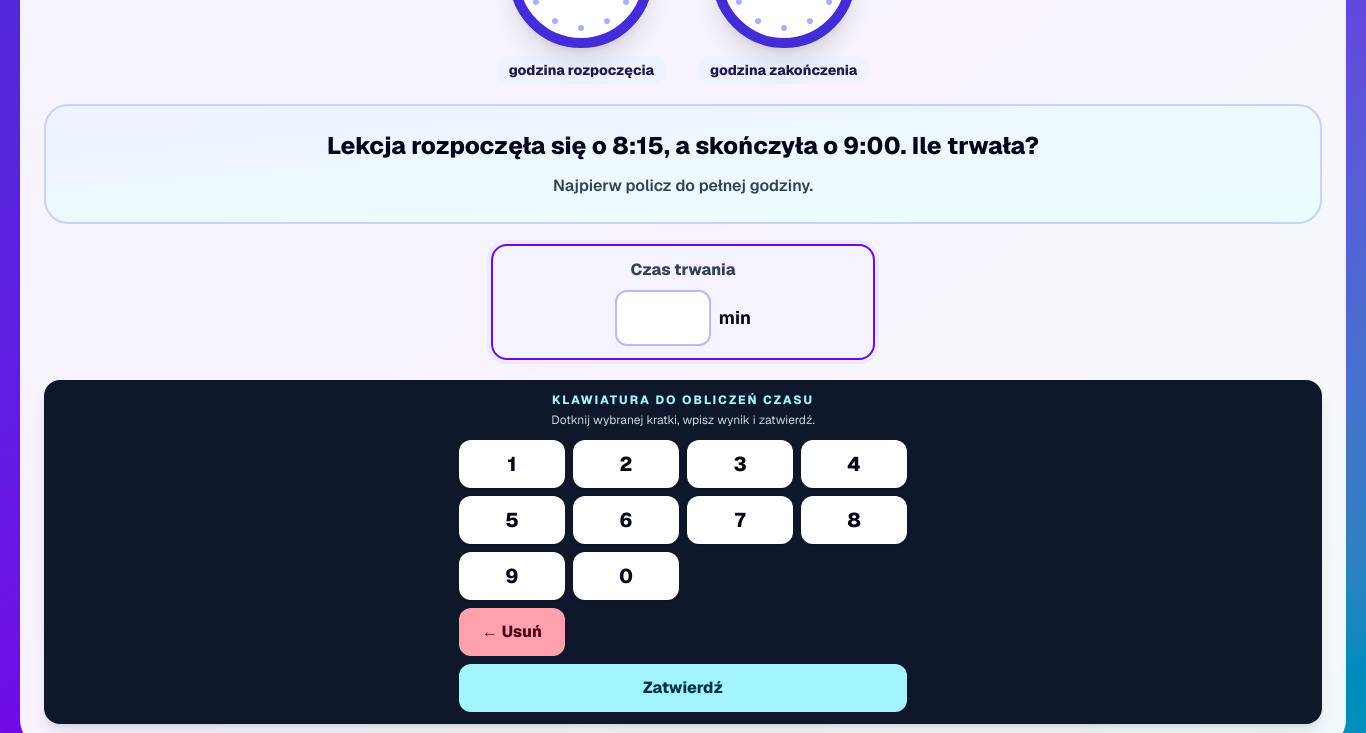
Test case: Kalendarz i czas › nie przepuszcza nieuzupełnionego wyniku liczbowego
The width and height of the screenshot is (1366, 733).
(page scrolled)
Click the button "Zatwierdź".
click(683, 688)  # box [459, 664, 907, 712]
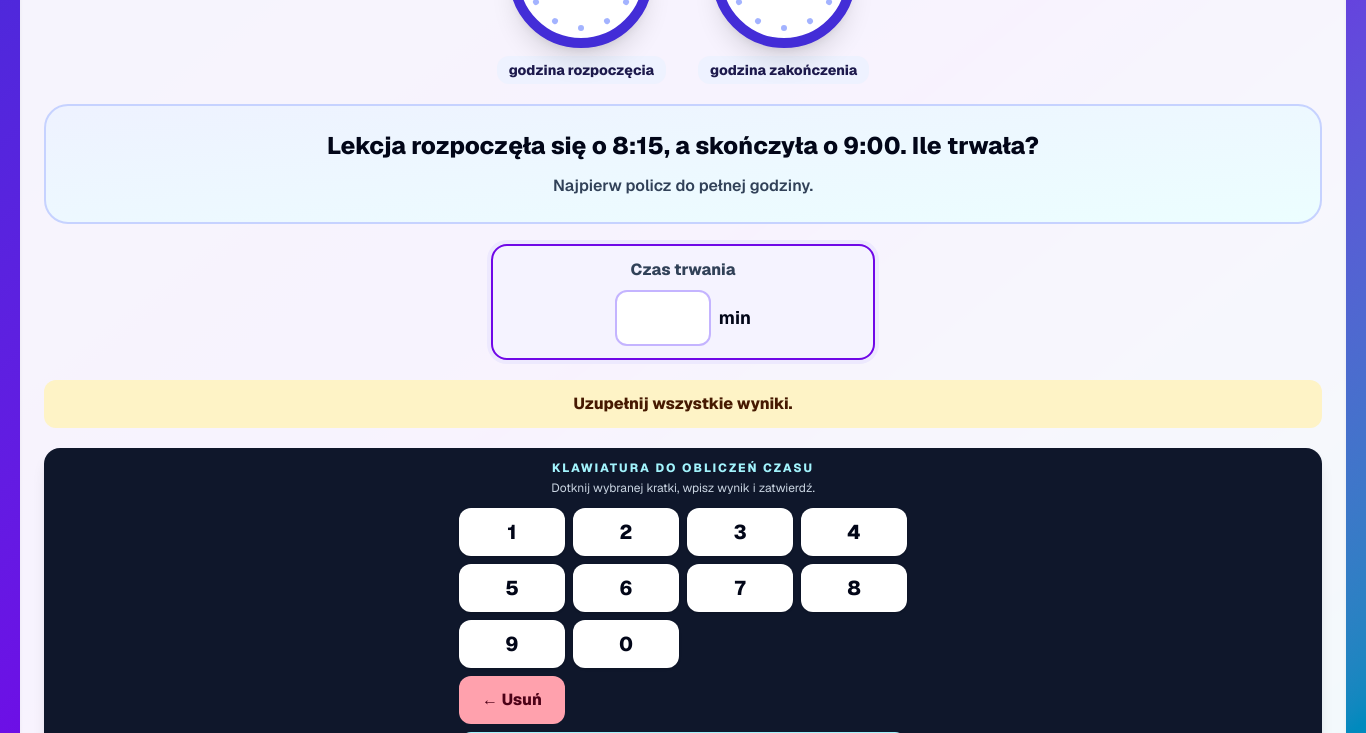
Check: the message shows "Uzupełnij wszystkie wyniki", box [573, 393, 793, 414]
